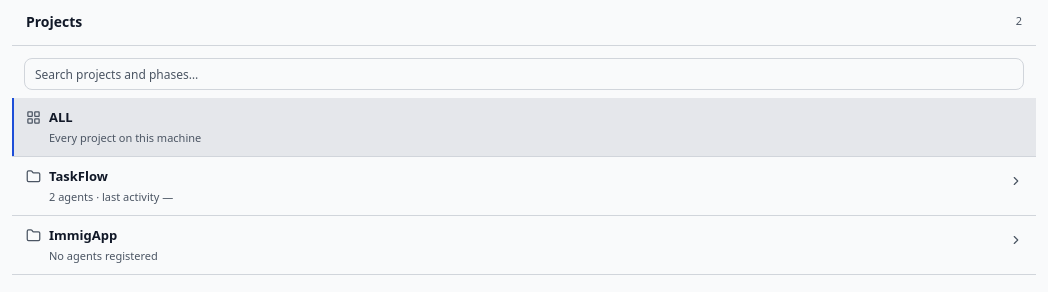
Test case: ProjectsNav › says "No matches" when a search finds nothing
The image size is (1048, 292).
Type "zzzz" into the field with placeholder "Search projects and phases…" at (524, 74), box [24, 58, 1024, 90]
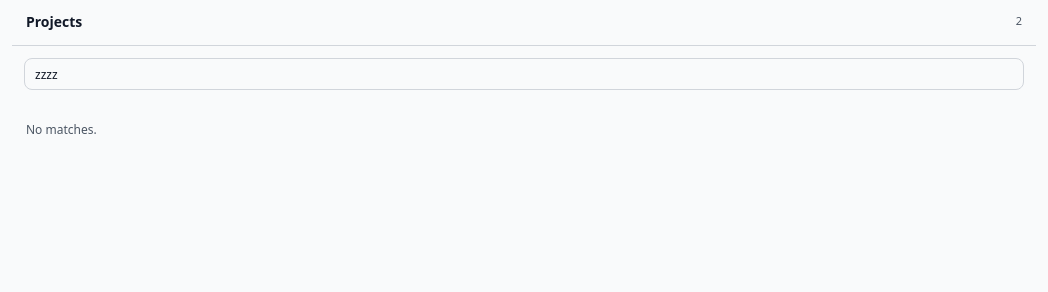
Result: the text "No matches." is shown at [26, 121, 97, 138]
